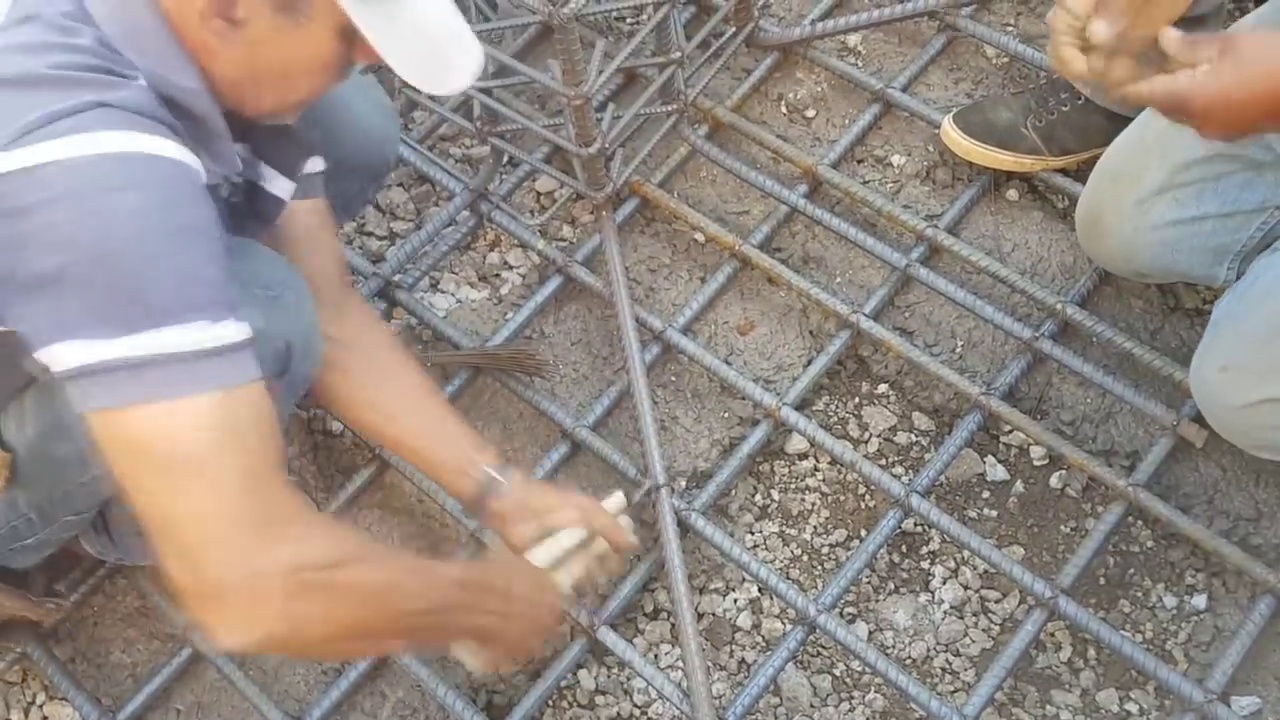helmet-off: (142, 2, 481, 129)
person: (2, 0, 627, 672), (942, 2, 1278, 466)
